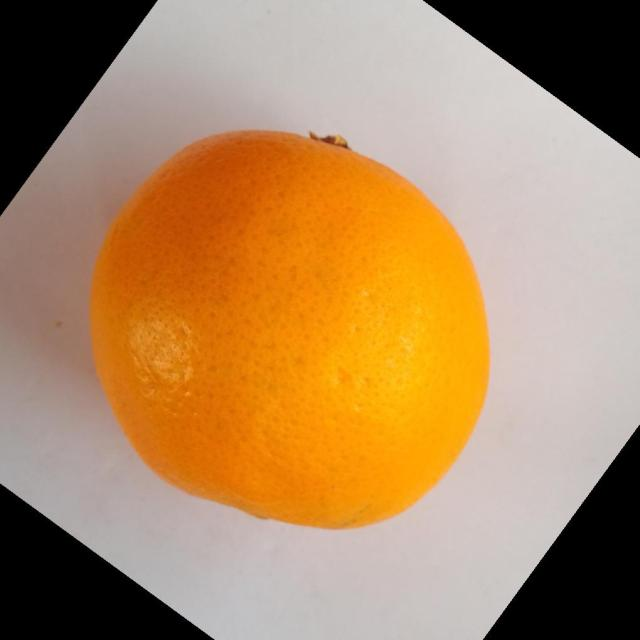fresh orange: (88, 128, 491, 530)
